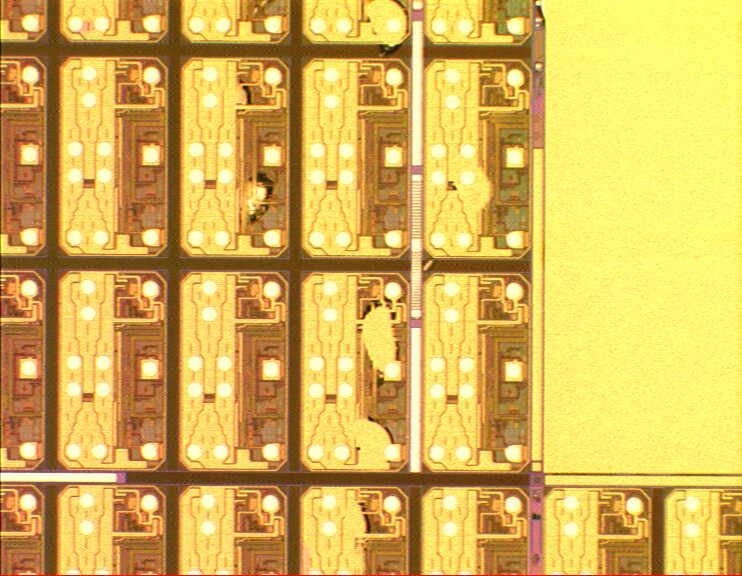COATING BAD: (220, 1, 503, 543)
